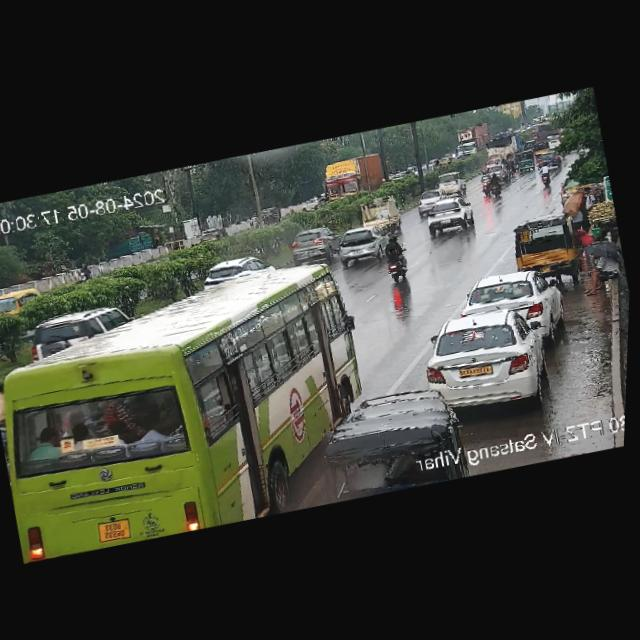bus: (0, 251, 383, 568), (0, 286, 42, 319)
car: (410, 290, 570, 420), (452, 261, 571, 357), (20, 301, 118, 365), (334, 221, 396, 268), (419, 190, 477, 240), (200, 250, 274, 288), (286, 221, 343, 269), (431, 169, 467, 200), (416, 187, 449, 207), (534, 152, 561, 171), (258, 204, 281, 225), (201, 225, 228, 242)
motorcycle: (376, 232, 411, 287), (488, 170, 504, 199), (537, 160, 552, 184), (478, 172, 493, 196)
person: (575, 233, 631, 299), (569, 176, 609, 234), (76, 265, 95, 283)
truck: (507, 210, 579, 276), (319, 152, 389, 203), (355, 195, 404, 235), (450, 121, 493, 154)
